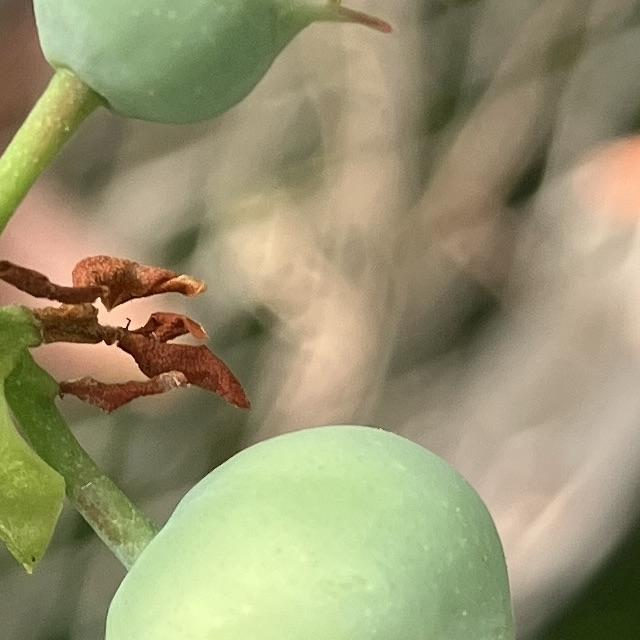Blueberries: (98, 418, 614, 640)
